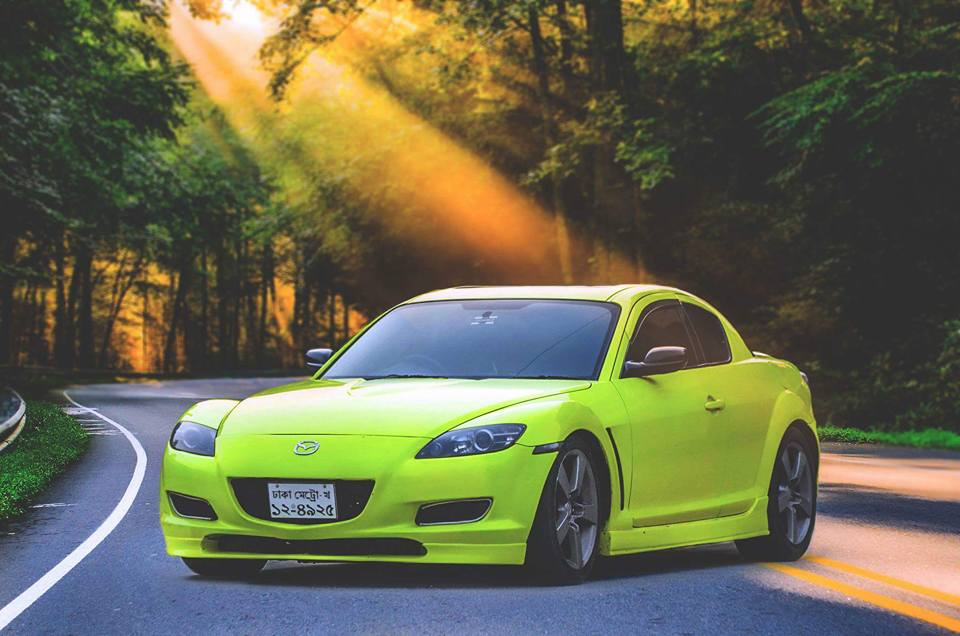registration_plate: (267, 482, 338, 519)
